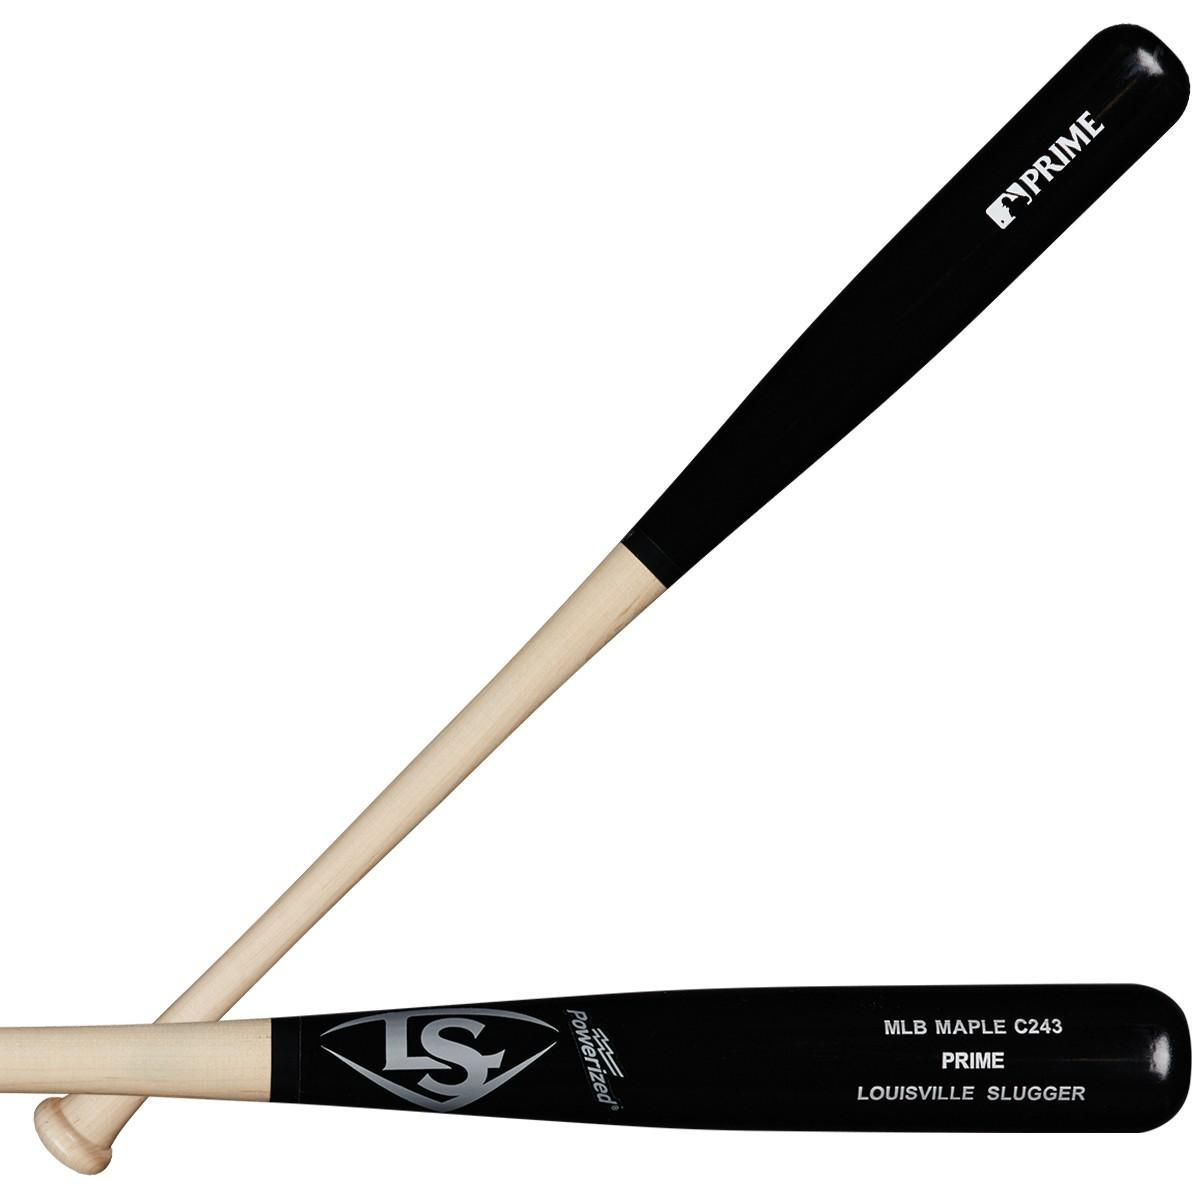Baseball-Bat: (0, 998, 1200, 1141)
